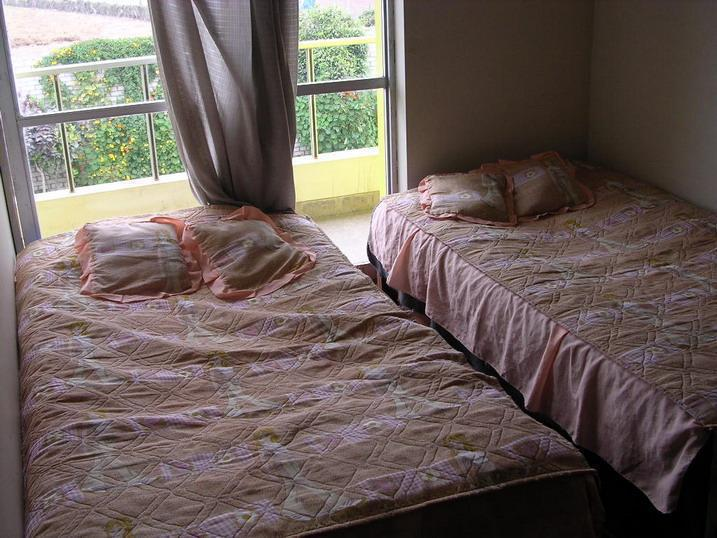Cama: (17, 198, 594, 537), (371, 149, 716, 492)
